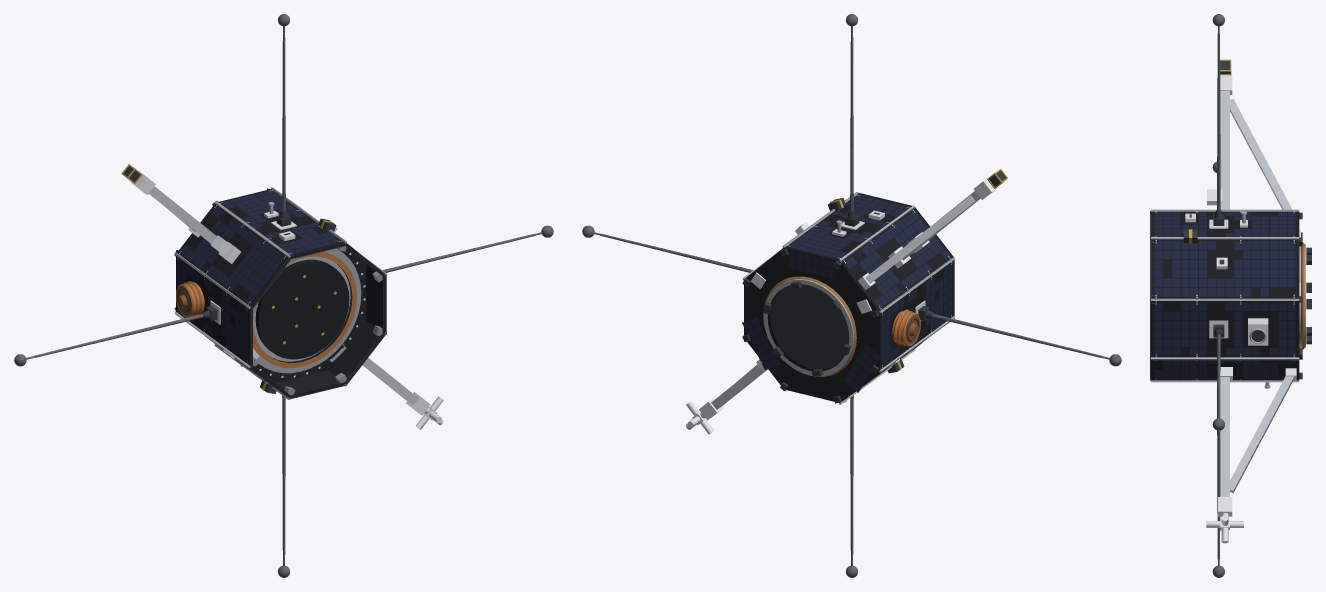
The model's file is tracers.glb.
3 renders of one model, left to right at view 1: azimuth 30°, elevation 25°; view 2: azimuth 150°, elevation 25°; view 3: azimuth 270°, elevation 25°, orthographic.
Parts seen in each view (by area): view 1: body, solar-panel, foil; view 2: body, solar-panel, foil; view 3: body, solar-panel, foil.
Boxes of the visible parts, left/top/right/bottom form: body: left=14, top=14, right=553, bottom=577; solar-panel: left=177, top=190, right=340, bottom=393; foil: left=121, top=164, right=418, bottom=405; body: left=582, top=14, right=1121, bottom=577; solar-panel: left=742, top=195, right=952, bottom=393; foil: left=711, top=169, right=1008, bottom=409; body: left=1150, top=14, right=1311, bottom=577; solar-panel: left=1154, top=212, right=1295, bottom=379; foil: left=1189, top=59, right=1294, bottom=496.
Size of the model in its own units: 3.96 by 3.96 by 1.03.
